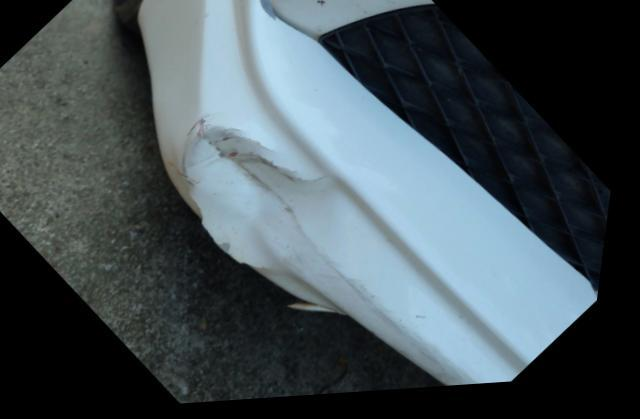dent: (190, 126, 346, 276)
